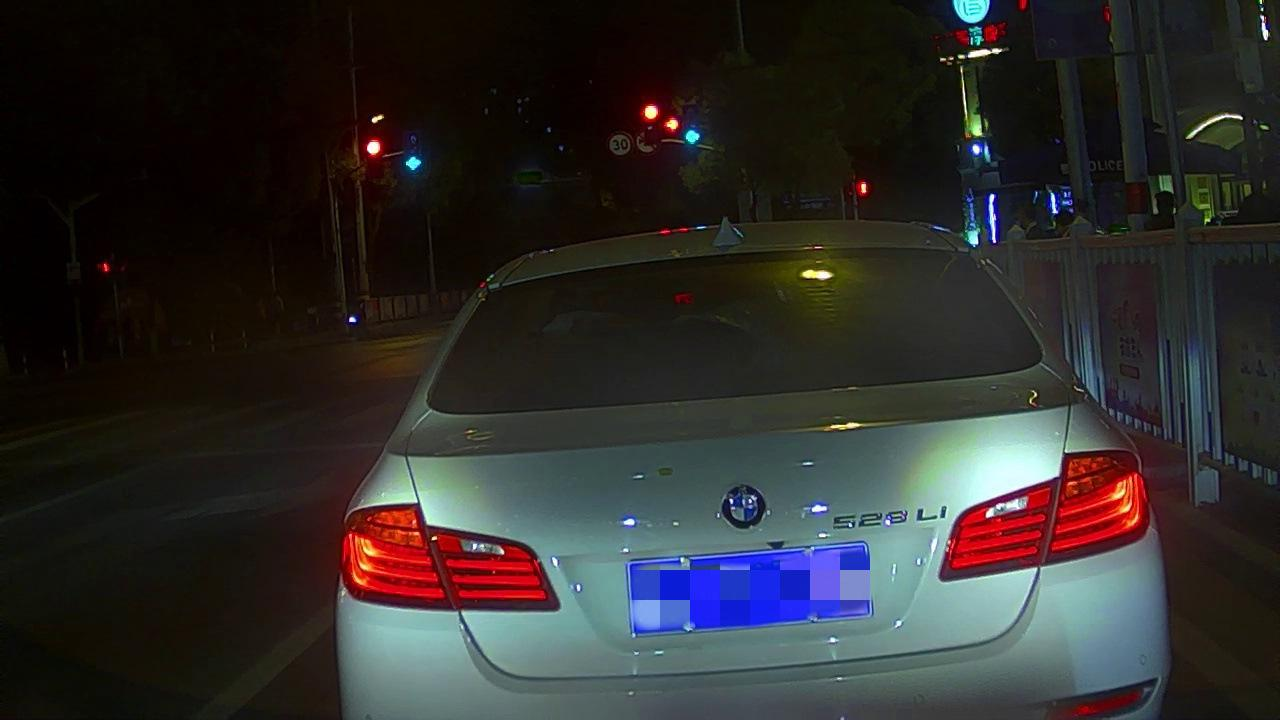traffic_light: (364, 137, 383, 176), (641, 101, 660, 140), (402, 137, 423, 172), (684, 106, 701, 147), (662, 115, 681, 135)
